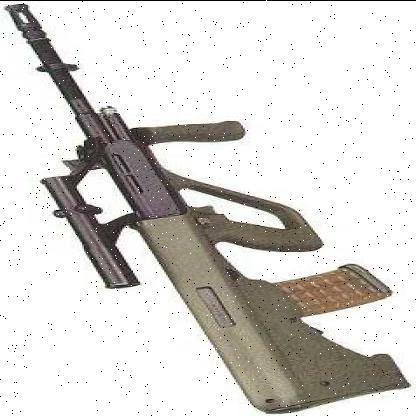rifle: (0, 1, 415, 413)
